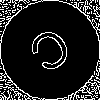C: (25, 25, 81, 83)
